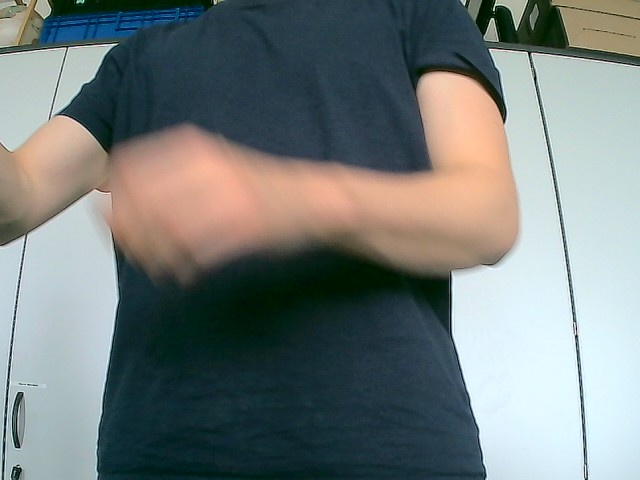no_gesture: (102, 121, 266, 290)
